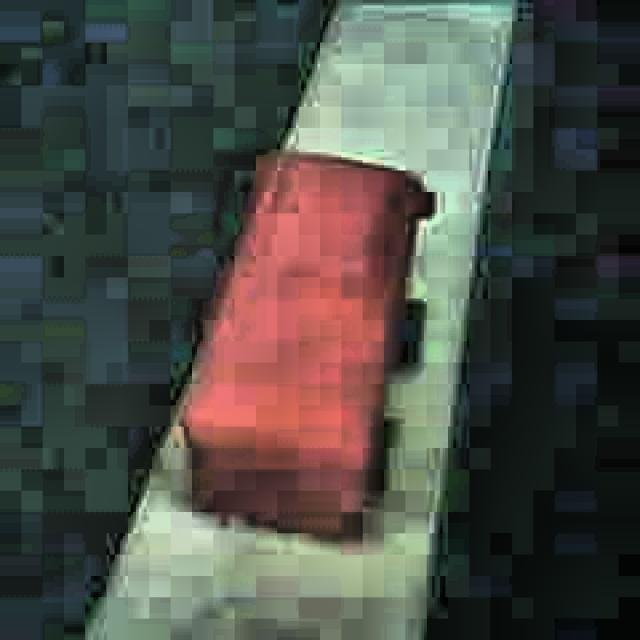bus: (180, 149, 434, 549)
